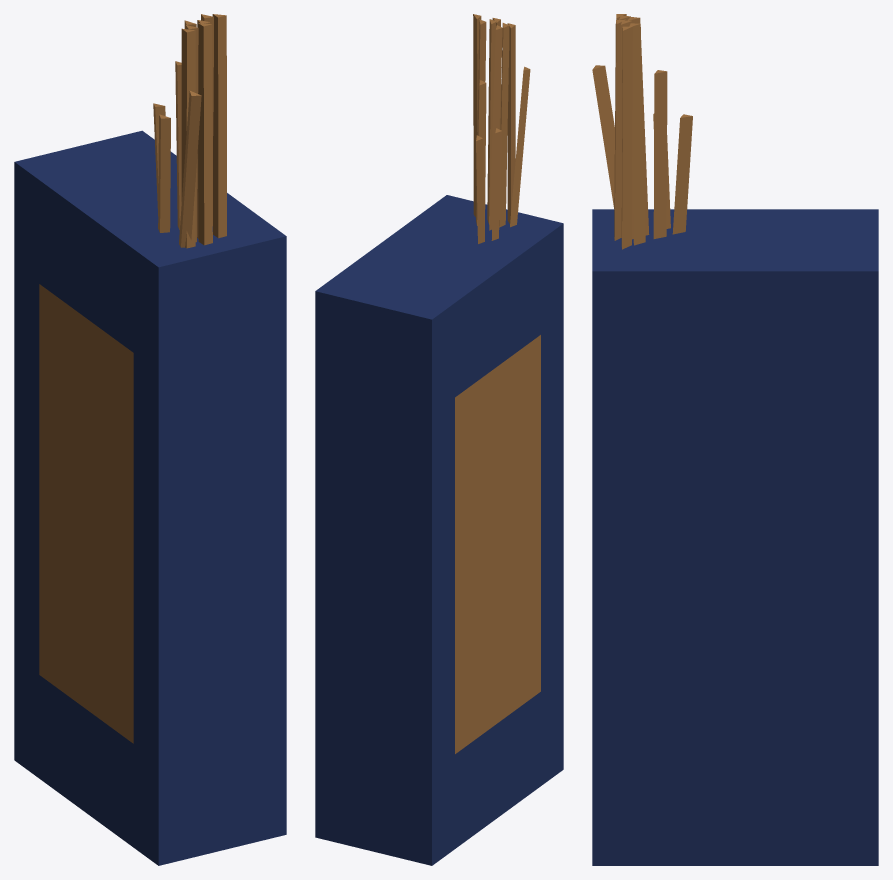
The model's file is pates.fbx.
3 views of the same model, side by side, from view 1: azimuth 30°, elevation 25°; view 2: azimuth 150°, elevation 25°; view 3: azimuth 270°, elevation 25° (orthographic). The views are drawn at different scales.
Parts seen in each view (by area): view 1: Pâtes; view 2: Pâtes; view 3: Pâtes.
Part boxes in pixels (x1=…): Pâtes: x1=14, y1=14, x2=286, y2=865; Pâtes: x1=315, y1=14, x2=563, y2=865; Pâtes: x1=592, y1=14, x2=878, y2=865.
Bounding box in the file's own units: 10.57 × 20.64 × 64.65.
